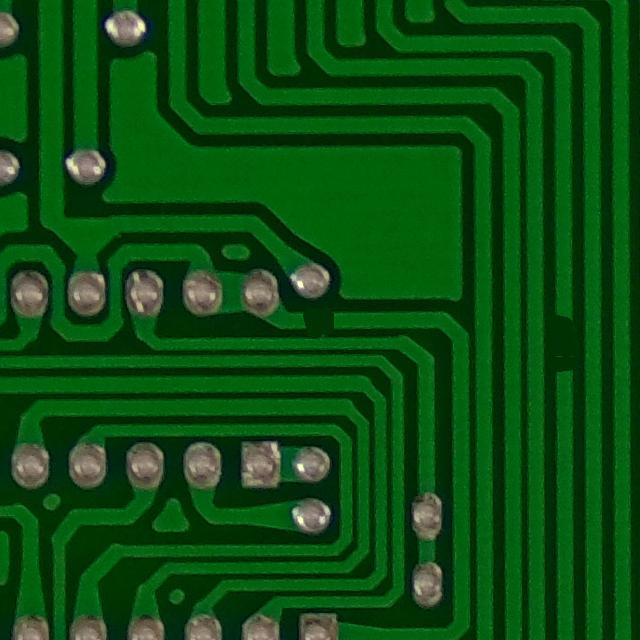open_circuit: (292, 301, 348, 340)
